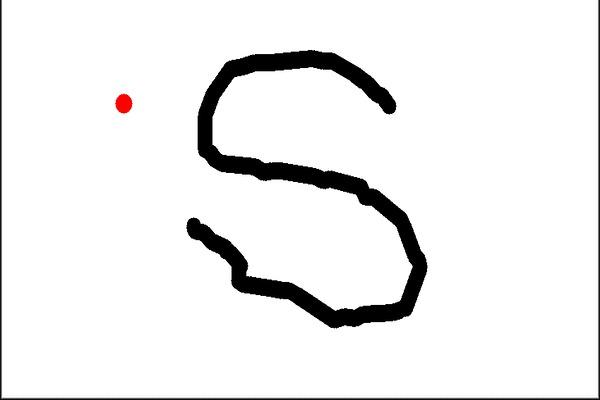S: (180, 46, 434, 332)
